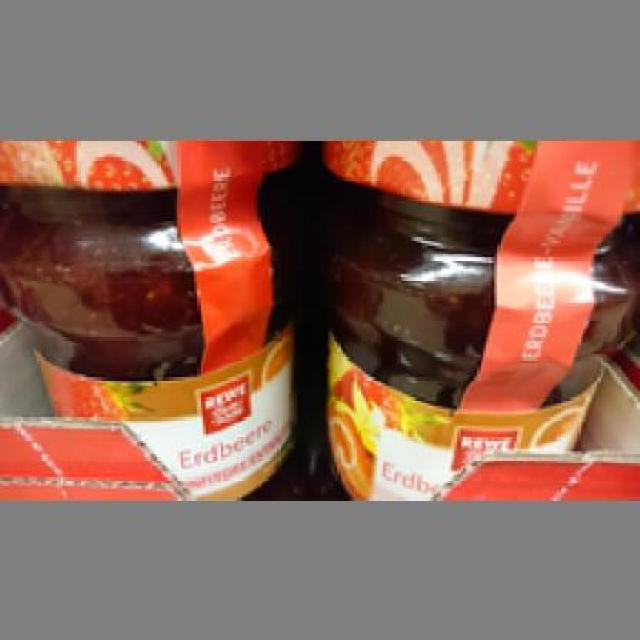Jam: (312, 137, 632, 497), (0, 137, 297, 497)
